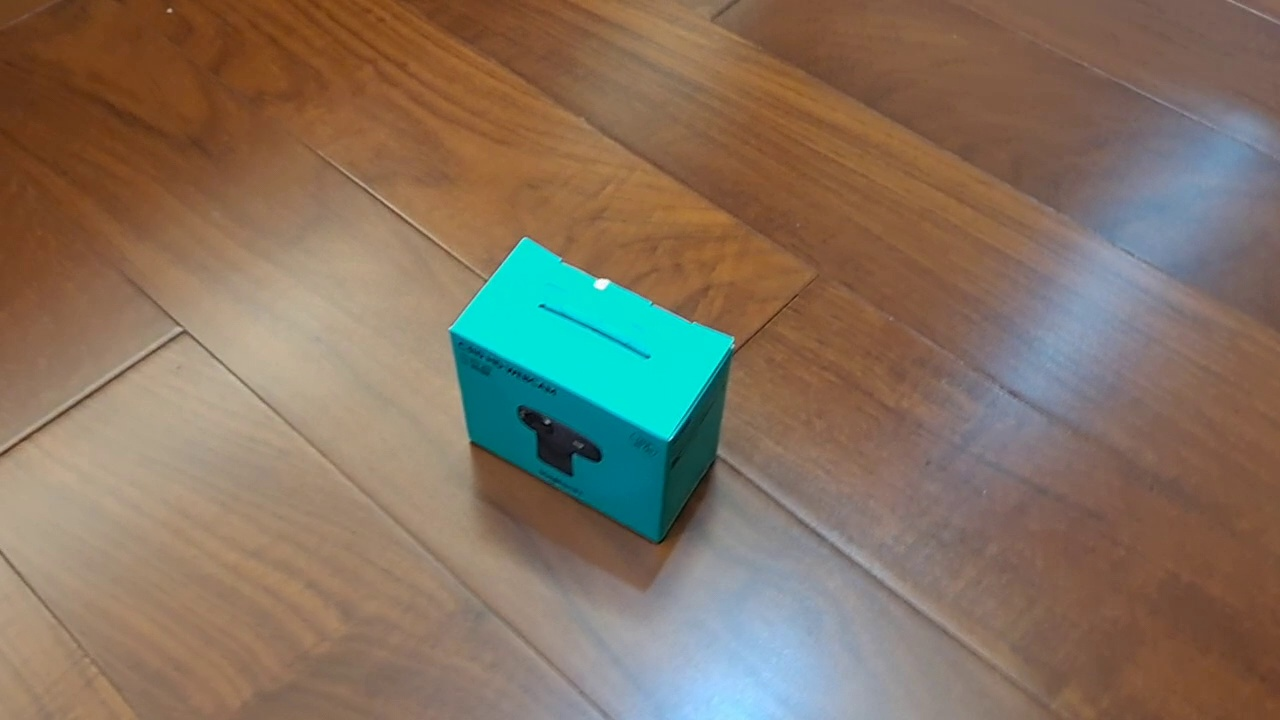webcam: (447, 235, 736, 546)
